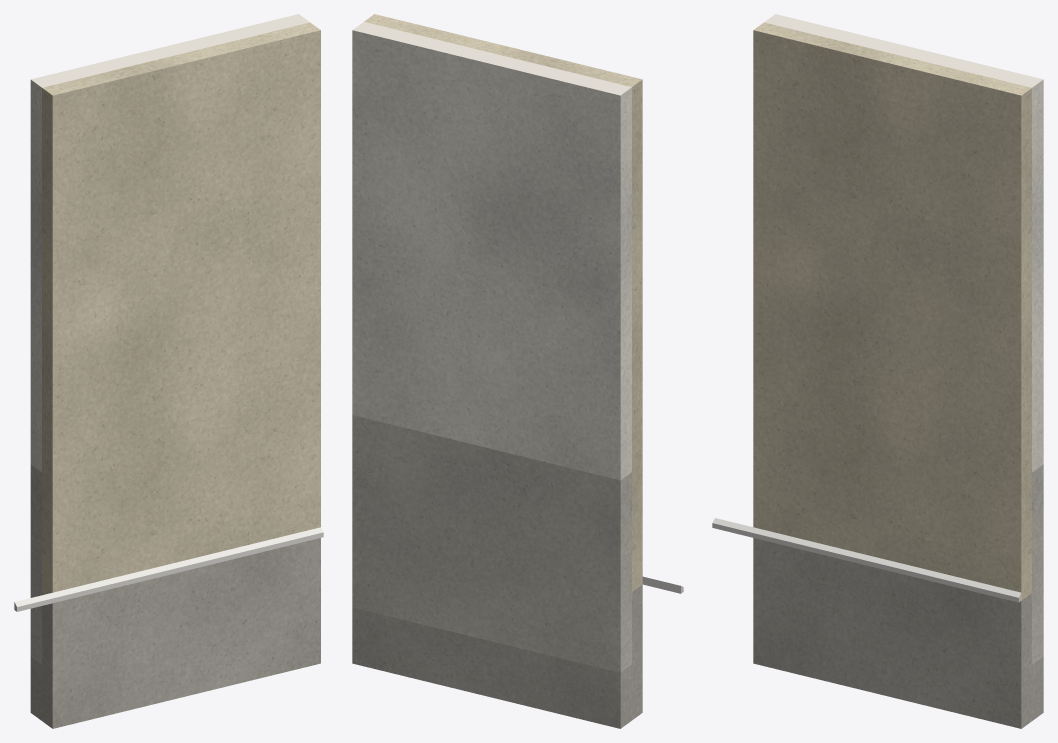
Rendered from o_plain_l_ea.glb.
The picture shows the model from 3 angles, left to right: view 1: azimuth 30°, elevation 25°; view 2: azimuth 150°, elevation 25°; view 3: azimuth 330°, elevation 25°; orthographic projection.
Parts seen in each view (by area): view 1: o_plain_l_ea_render, o_plain_l_ea_concrete, o_plain_l_ea_plaster, o_plain_l_ea_coping, o_plain_l_ea_tile_a; view 2: o_plain_l_ea_plaster, o_plain_l_ea_tile_a, o_plain_l_ea_concrete, o_plain_l_ea_render; view 3: o_plain_l_ea_render, o_plain_l_ea_concrete, o_plain_l_ea_plaster, o_plain_l_ea_coping, o_plain_l_ea_tile_a.
Boxes of the visible parts, x1=… form: o_plain_l_ea_render: x1=42, y1=22, x2=320, y2=594; o_plain_l_ea_concrete: x1=30, y1=538, x2=320, y2=728; o_plain_l_ea_plaster: x1=30, y1=14, x2=309, y2=472; o_plain_l_ea_coping: x1=14, y1=527, x2=323, y2=611; o_plain_l_ea_tile_a: x1=30, y1=464, x2=41, y2=664; o_plain_l_ea_plaster: x1=352, y1=22, x2=631, y2=480; o_plain_l_ea_tile_a: x1=352, y1=415, x2=631, y2=672; o_plain_l_ea_concrete: x1=352, y1=585, x2=642, y2=728; o_plain_l_ea_render: x1=364, y1=14, x2=642, y2=591; o_plain_l_ea_render: x1=753, y1=22, x2=1031, y2=600; o_plain_l_ea_concrete: x1=753, y1=538, x2=1043, y2=728; o_plain_l_ea_plaster: x1=764, y1=14, x2=1043, y2=472; o_plain_l_ea_coping: x1=712, y1=518, x2=1021, y2=602; o_plain_l_ea_tile_a: x1=1032, y1=464, x2=1043, y2=664.
Size of the model in its own units: 2 by 3.95 by 0.28.
Materials: 5 (4 with a texture image).
